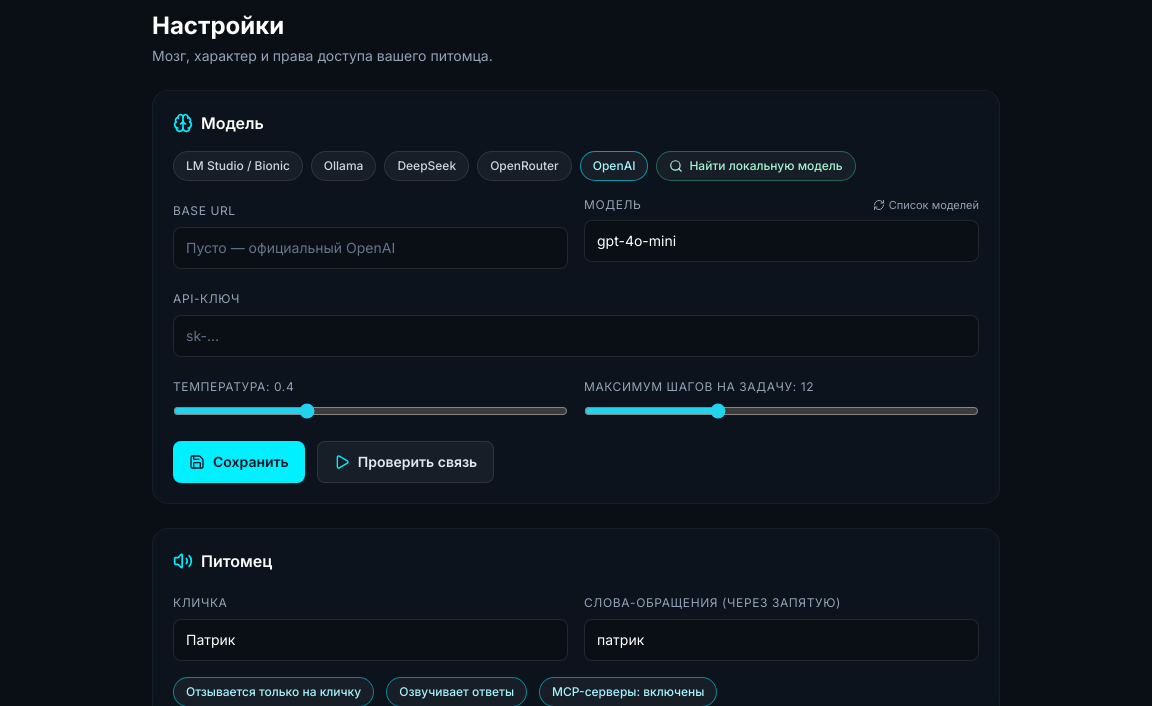
Test: Настройки: подключение локальной модели › подсказывает запустить сервер, если ничего не нашлось
The width and height of the screenshot is (1152, 706).
expect the field with placeholder "Пусто — официальный OpenAI" is shown: met, box [173, 227, 568, 269]
Click the button "Найти локальную модель": [756, 166] box [656, 151, 856, 181]
(page scrolled)
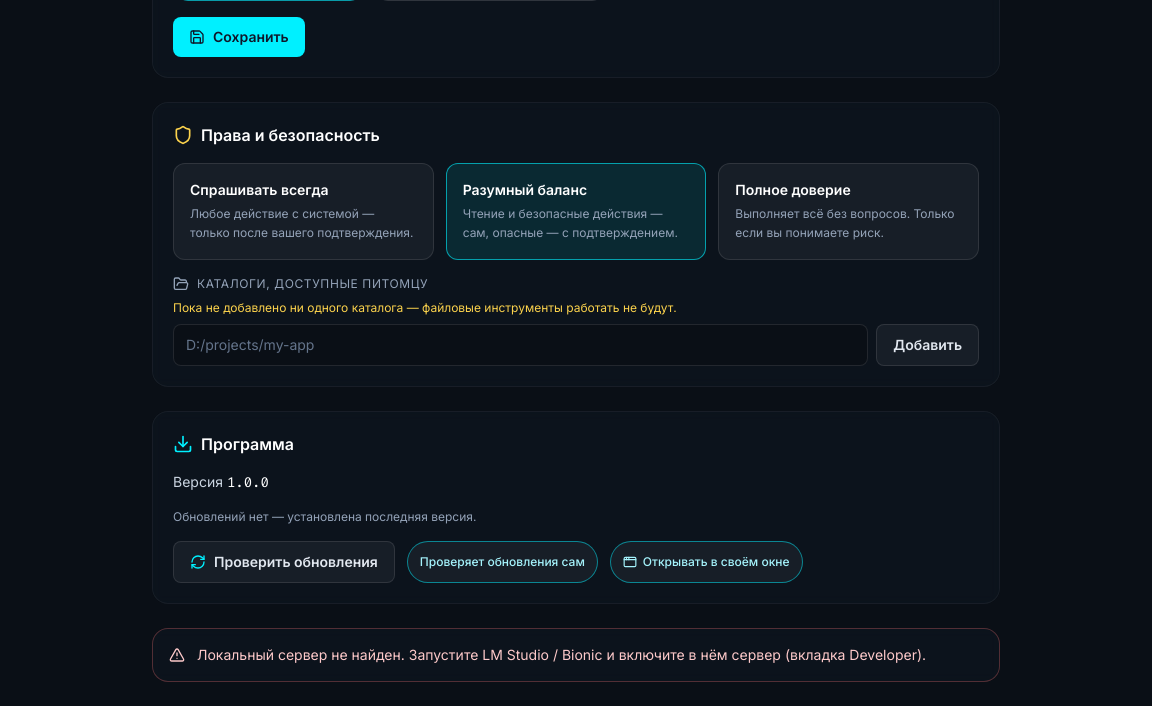
expect the text "Локальный сервер не найден" is shown: met, box [197, 646, 926, 662]
